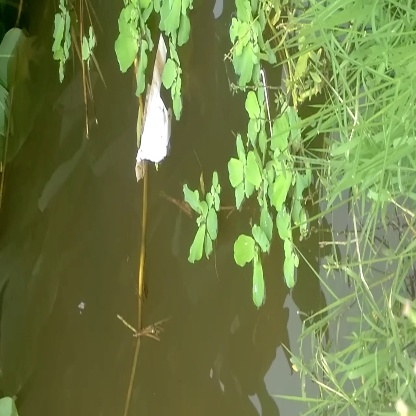branch: (128, 182, 170, 416)
